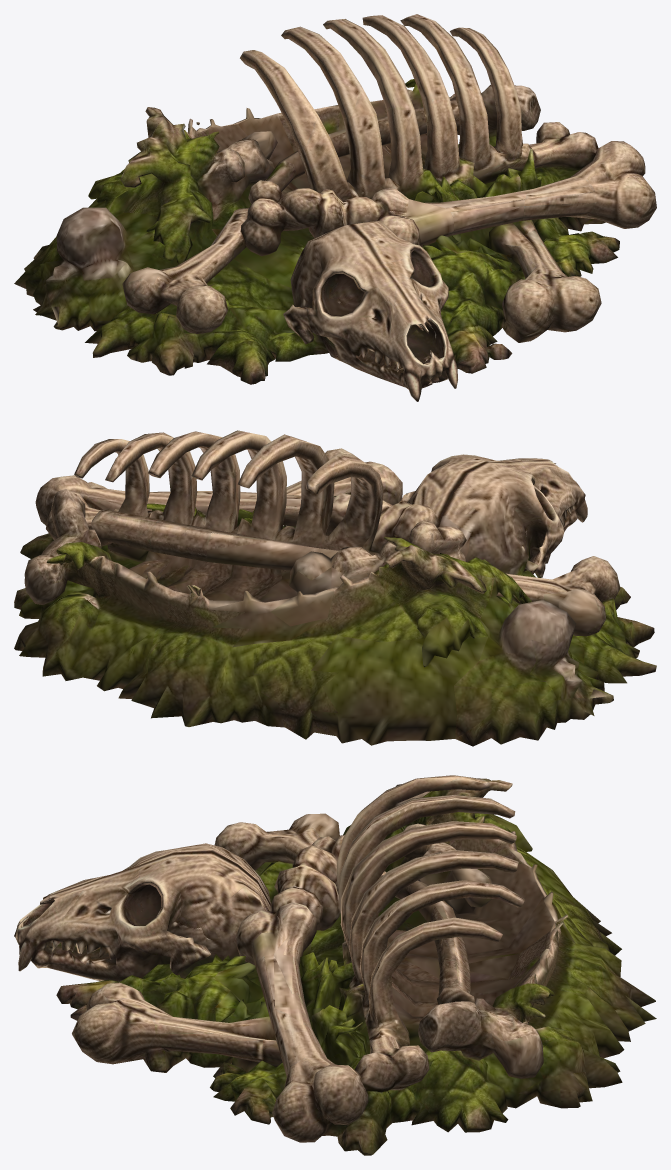
File: kosci.glb
The picture shows the model from 3 angles, top to bottom: view 1: azimuth 30°, elevation 25°; view 2: azimuth 150°, elevation 25°; view 3: azimuth 270°, elevation 25°; orthographic projection. The views are drawn at different scales.
Parts seen in each view (by area): view 1: Mesh_0; view 2: Mesh_0; view 3: Mesh_0.
Part boxes in pixels (x1=…): Mesh_0: x1=14, y1=14, x2=656, y2=401; Mesh_0: x1=14, y1=430, x2=656, y2=746; Mesh_0: x1=14, y1=775, x2=656, y2=1155.
Size of the model in its own units: 0.957 by 0.3159 by 0.8599.
1 material, 1 textured.
